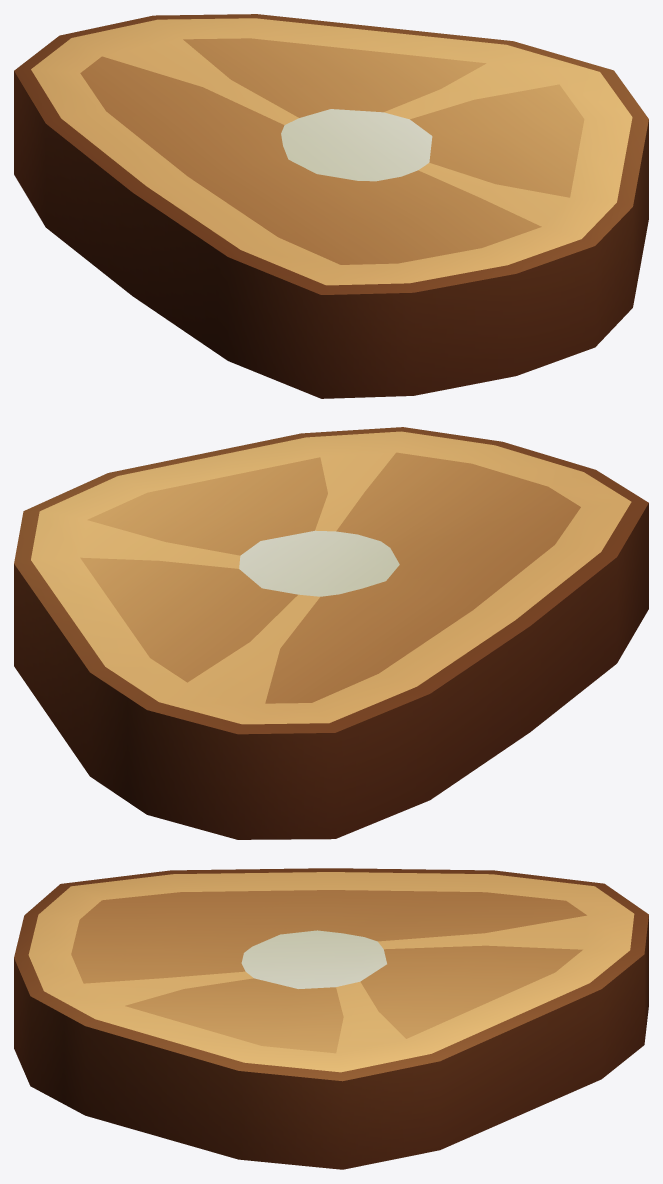
The model's file is Ham_Slice_02.glb.
3 renders of one model, top to bottom at view 1: azimuth 30°, elevation 25°; view 2: azimuth 150°, elevation 25°; view 3: azimuth 270°, elevation 25°, orthographic. The views are drawn at different scales.
Parts seen in each view (by area): view 1: Ham_Slice_02; view 2: Ham_Slice_02; view 3: Ham_Slice_02.
Part boxes in pixels (<box>): Ham_Slice_02: <box>14,14,648,398</box>; Ham_Slice_02: <box>14,427,648,839</box>; Ham_Slice_02: <box>14,868,648,1169</box>.
Bounding box in the file's own units: 0.4811 × 0.1063 × 0.6109.
1 material, 1 textured.
